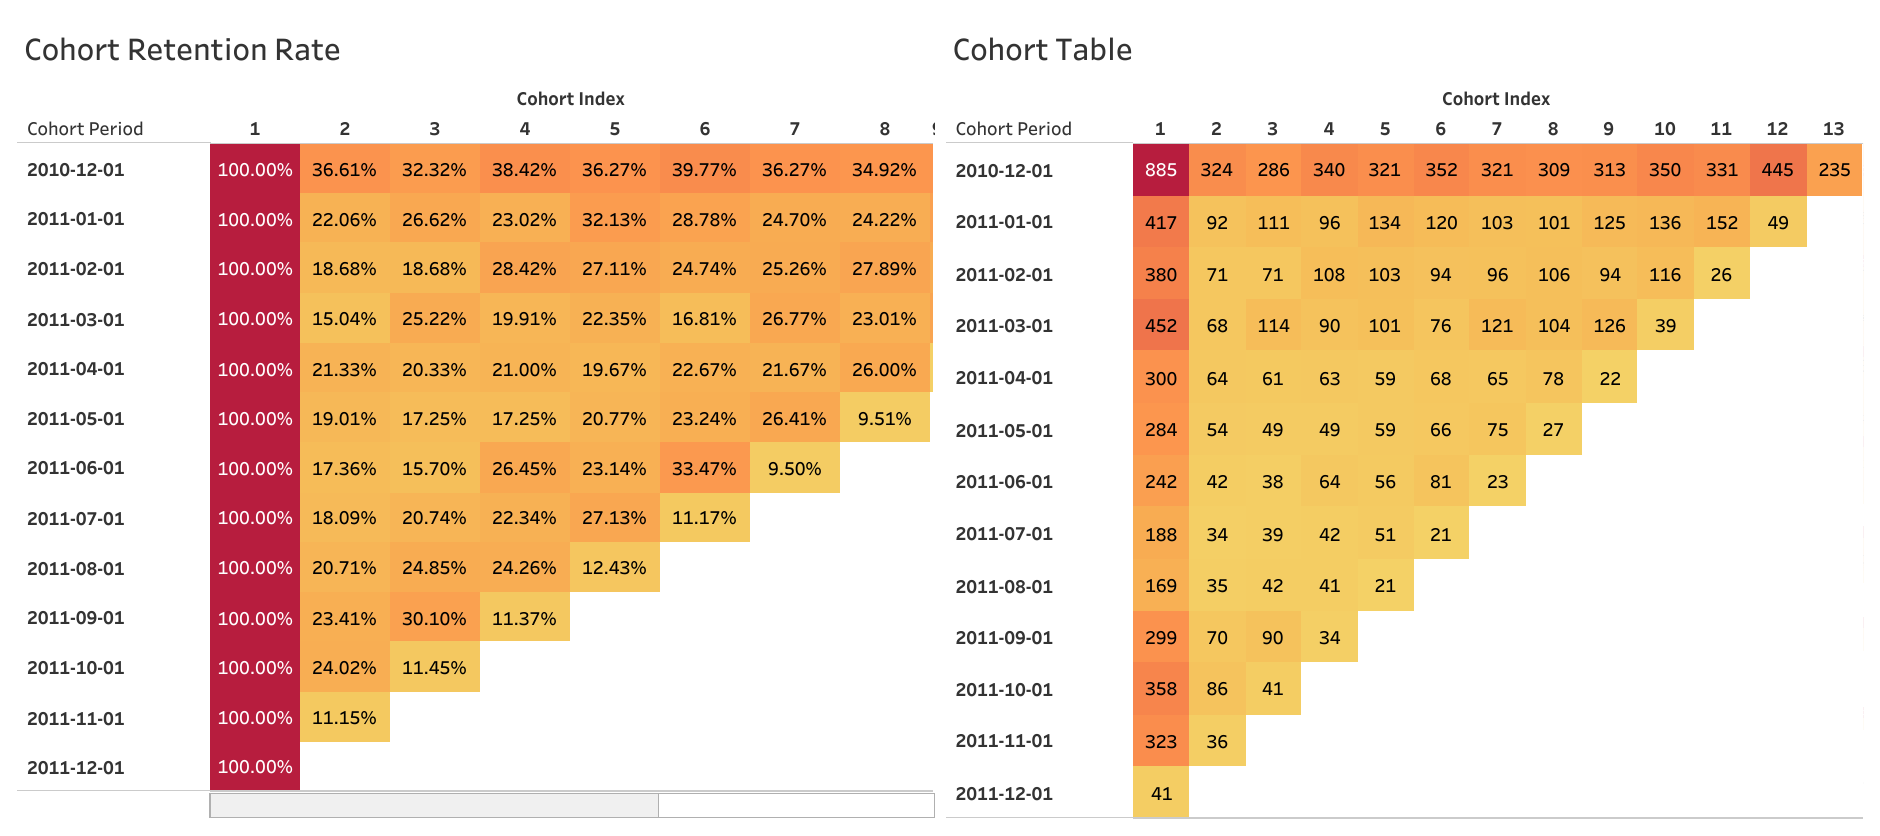

Layout of this report page (visuals, bound fields, positions):
{"tool":"tableau","page":{"name":"Dashboard 1","canvas":[1000,1000],"units":"permille","ordinal":0},"visuals":[{"type":"worksheet","title":"Cohort_Analysis retention rate","mark":"Square","rows":["Cohort Date (copy)_1136877483625328642"],"cols":["cohort_index"],"box":[5,8.6,495,982.7]},{"type":"worksheet","title":"Cohort_Analysis retention value","mark":"Square","rows":["Cohort Date (copy)_1136877483625328642"],"cols":["cohort_index"],"box":[500,8.6,495,982.7]}]}

Visuals, with their boxes on the dashboard's canvas, which has no fixed pixel size, in thousandths of its width and height (x1, y1, x2, y2). These are canvas units, not pixel positions in the 1880x836 screenshot, which may show the page scaled, cropped or inside an application window:
"Cohort_Analysis retention rate" worksheet (Square marks): box(5, 9, 500, 991)
"Cohort_Analysis retention value" worksheet (Square marks): box(500, 9, 995, 991)
